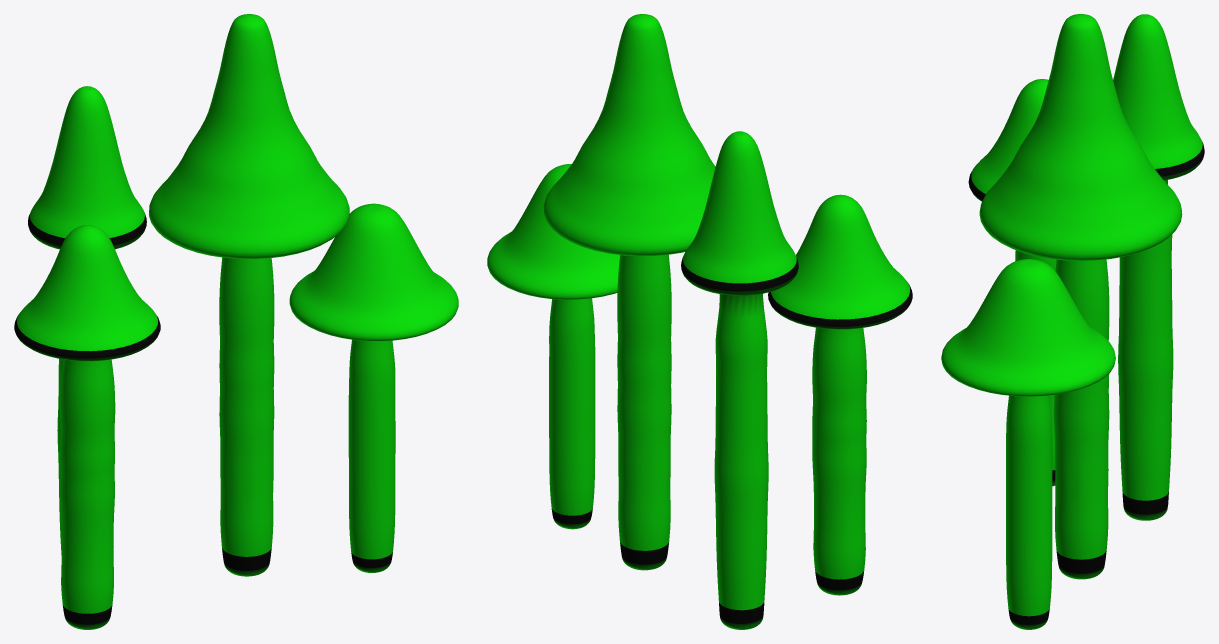
The model's file is Gnoomeshead_shroom_group.fbx.
3 renders of one model, left to right at view 1: azimuth 30°, elevation 25°; view 2: azimuth 150°, elevation 25°; view 3: azimuth 270°, elevation 25°, orthographic.
Parts seen in each view (by area): view 1: polySurface12; view 2: polySurface12; view 3: polySurface12.
Part boxes in pixels (<box>): polySurface12: <box>14,14,458,629</box>; polySurface12: <box>487,14,912,629</box>; polySurface12: <box>941,14,1204,629</box>.
Bounding box in the file's own units: 2.09 × 2.68 × 1.14.
